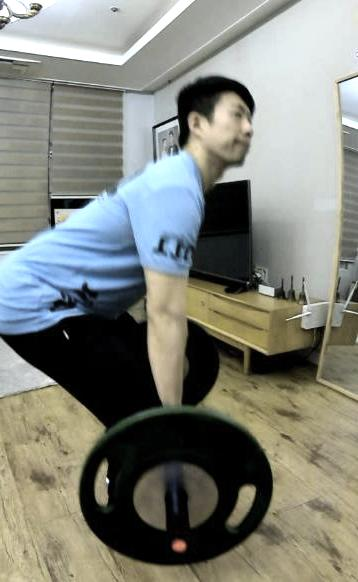Barbell: (162, 527, 196, 559)
